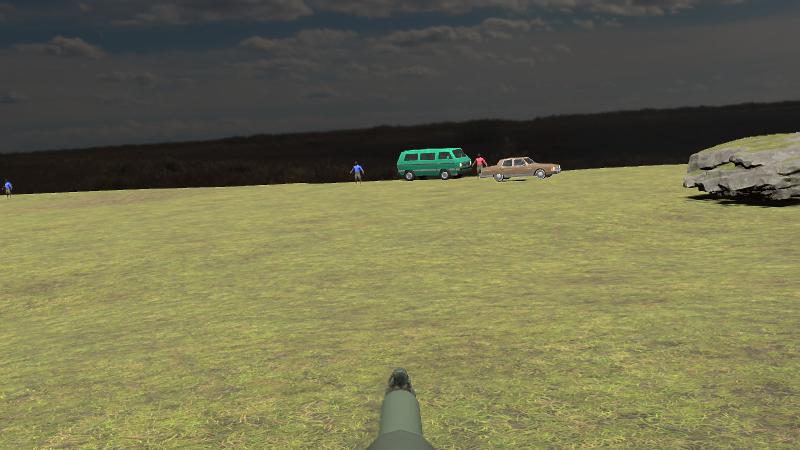car: (397, 148, 472, 181), (481, 156, 560, 182)
